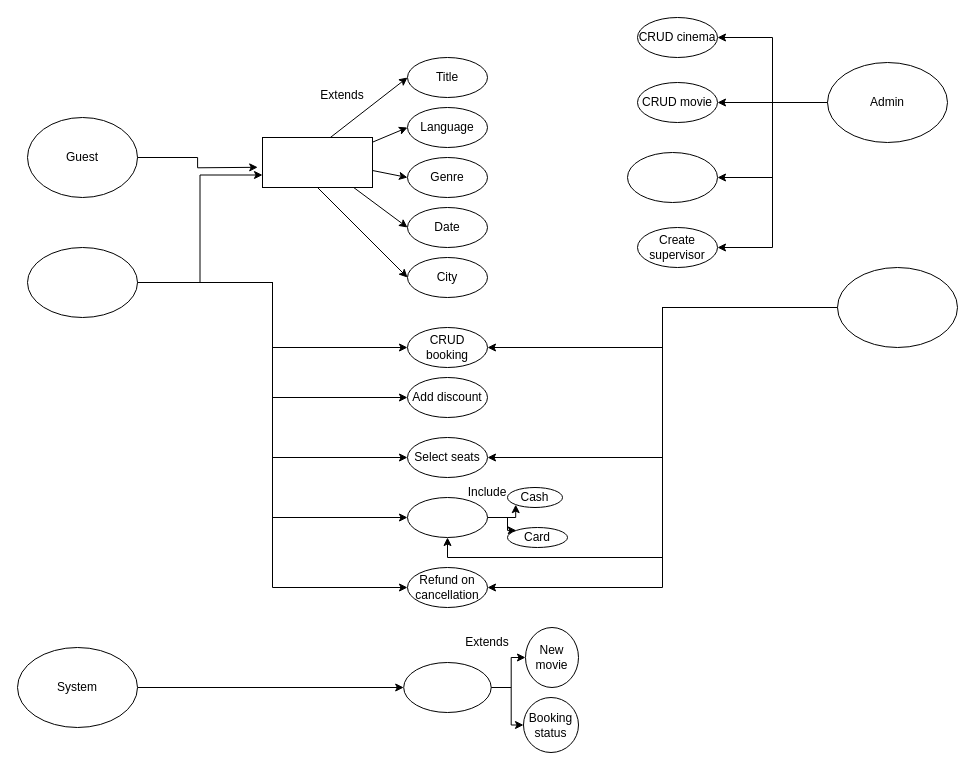
Some shapes in this 975 by 770 pixel diagram are drawn without their labels. Each missing label, with the box of its shape:
Block/ unblock: (626, 152, 718, 202)
Member: (26, 246, 138, 318)
Payment: (406, 496, 488, 538)
Send notification: (403, 662, 491, 712)
Supervisor: (836, 266, 958, 348)
«interface» Search: (262, 136, 372, 188)
